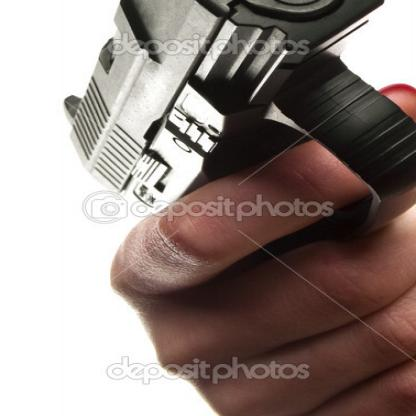gun: (16, 0, 415, 415)
